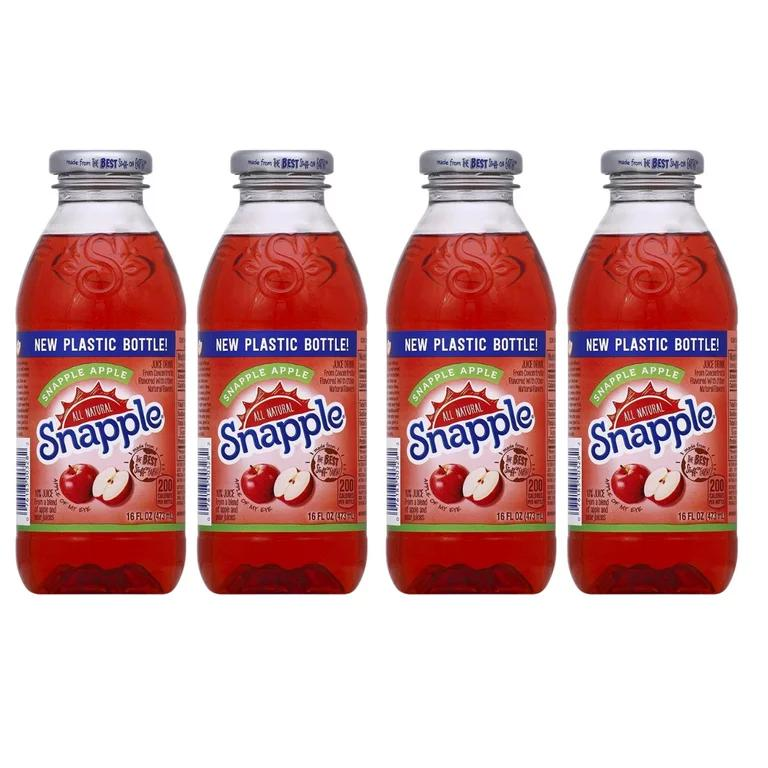juice: (565, 144, 744, 614), (192, 133, 373, 595), (387, 148, 562, 608), (19, 141, 188, 597)
